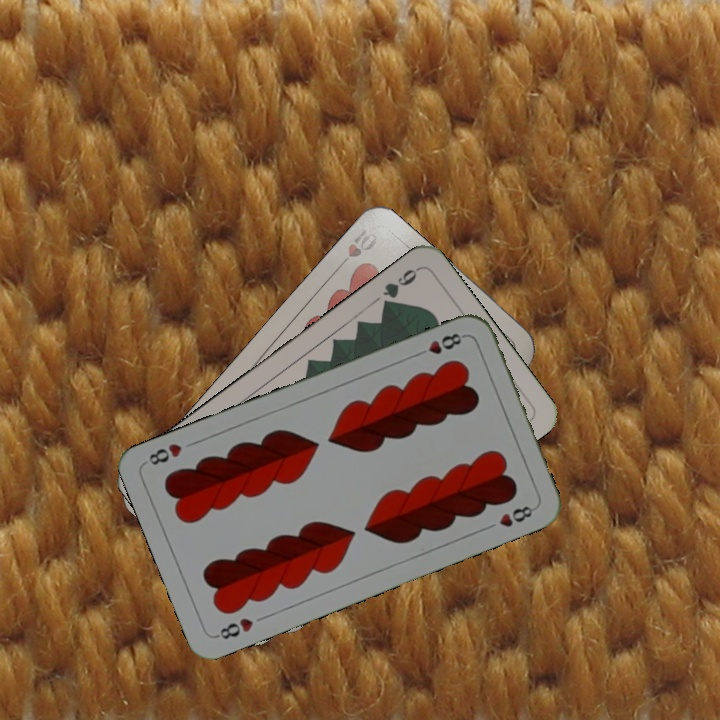G9: (378, 263, 422, 312)
H10: (332, 223, 382, 273)
H8: (411, 329, 468, 360), (212, 613, 256, 642)
